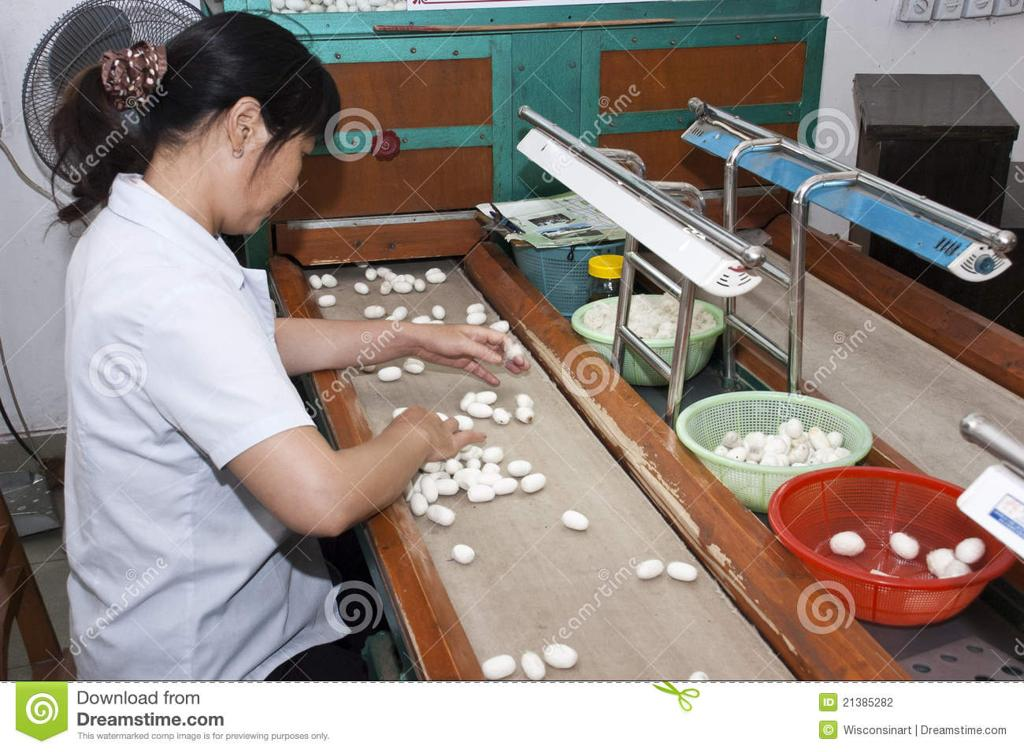face: (220, 88, 320, 236)
